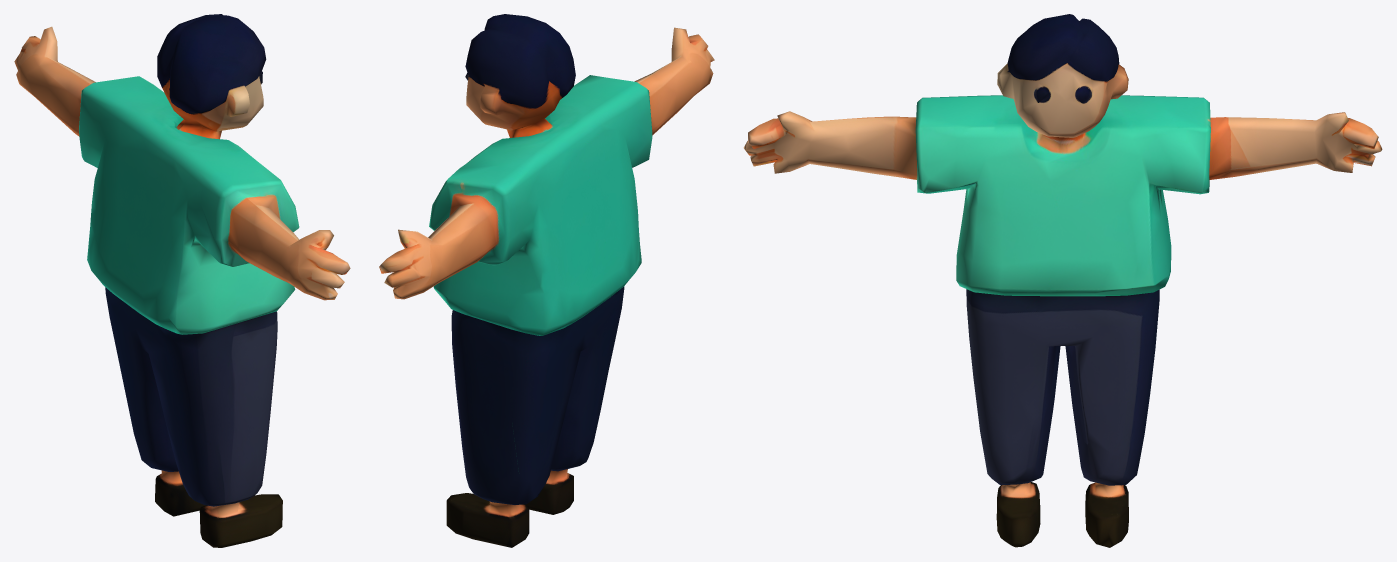
Rendered from person.glb.
The picture shows the model from 3 angles, left to right: view 1: azimuth 30°, elevation 25°; view 2: azimuth 150°, elevation 25°; view 3: azimuth 270°, elevation 25°; orthographic projection.
Visible parts, largest first — view 1: tripo_node_53b6803a-983b-44f4-86a9-a4ab047ac88c; view 2: tripo_node_53b6803a-983b-44f4-86a9-a4ab047ac88c; view 3: tripo_node_53b6803a-983b-44f4-86a9-a4ab047ac88c.
Part boxes in pixels (x1,y1,x2,y2): tripo_node_53b6803a-983b-44f4-86a9-a4ab047ac88c: [14, 14, 350, 547]; tripo_node_53b6803a-983b-44f4-86a9-a4ab047ac88c: [379, 14, 714, 547]; tripo_node_53b6803a-983b-44f4-86a9-a4ab047ac88c: [743, 14, 1382, 547].
Bounding box in the file's own units: 0.2486 × 0.8741 × 1.
1 material, 1 textured.
